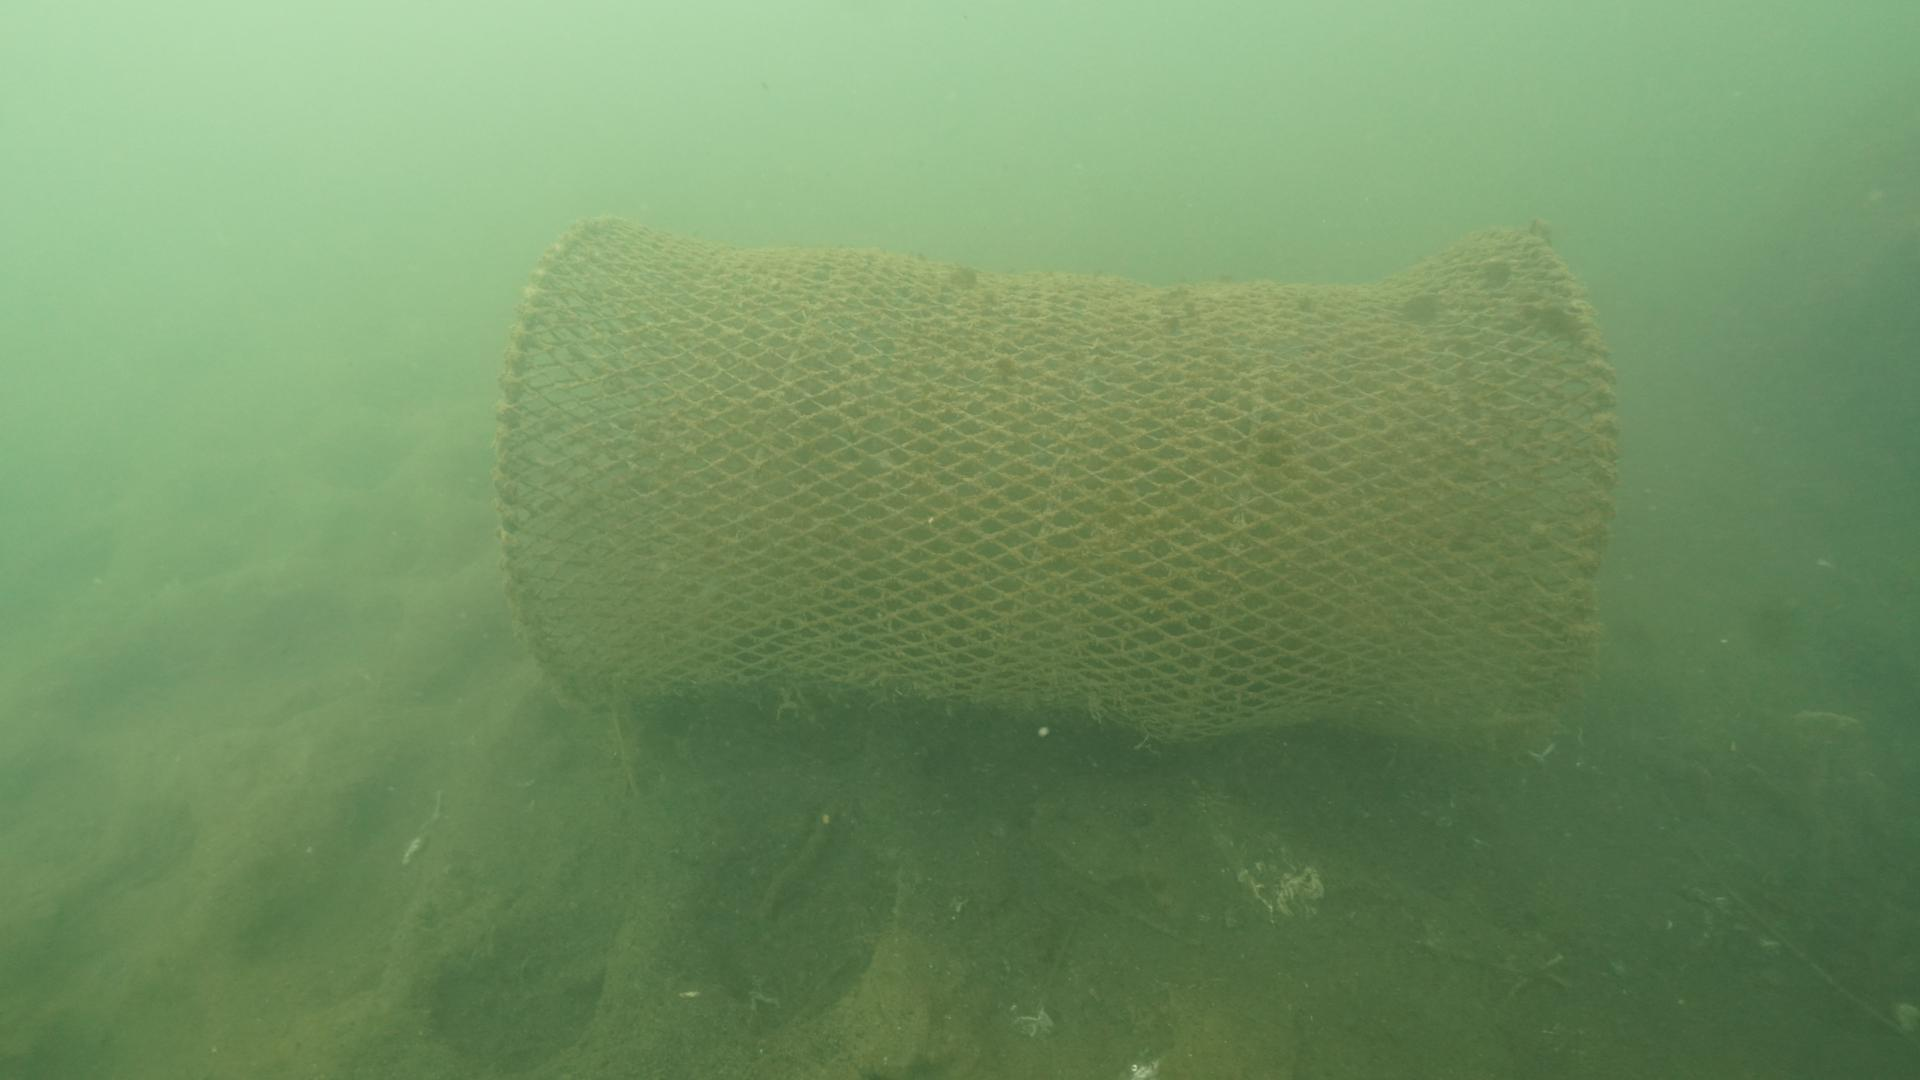spring fish trap: (491, 219, 1629, 742)
